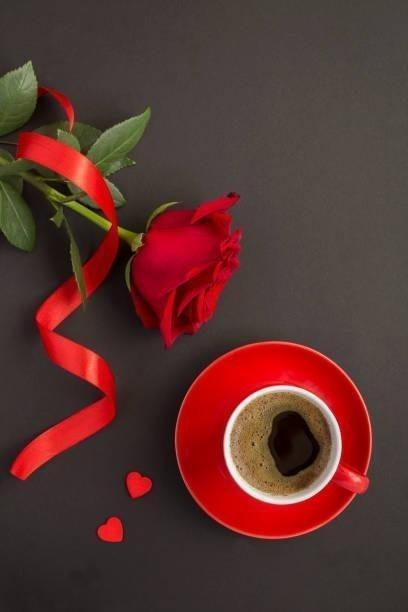cup-handle: (220, 383, 369, 507)
